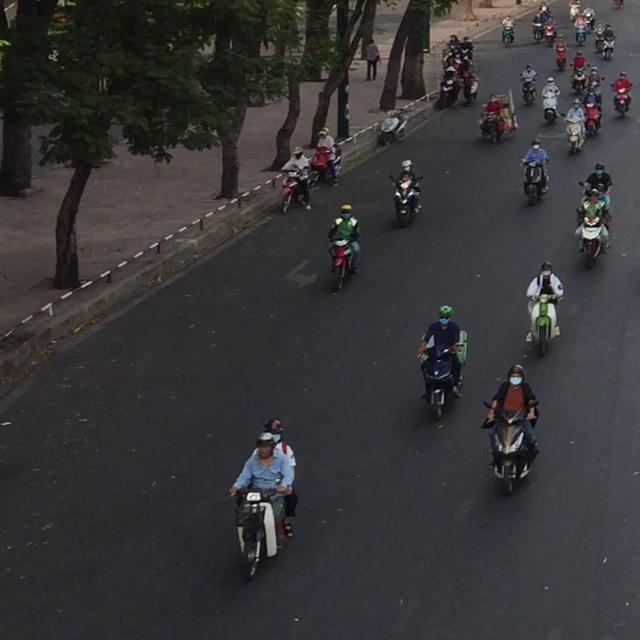Motorcycle: (228, 477, 292, 581), (481, 398, 540, 496), (417, 341, 465, 421), (525, 292, 563, 356), (574, 208, 611, 269), (326, 232, 360, 294), (388, 173, 423, 228), (276, 166, 312, 214), (517, 155, 549, 206), (309, 144, 343, 185), (379, 108, 409, 145), (564, 115, 588, 154), (540, 92, 563, 126), (585, 99, 603, 137), (613, 86, 633, 119), (520, 77, 538, 107), (500, 21, 515, 46)
